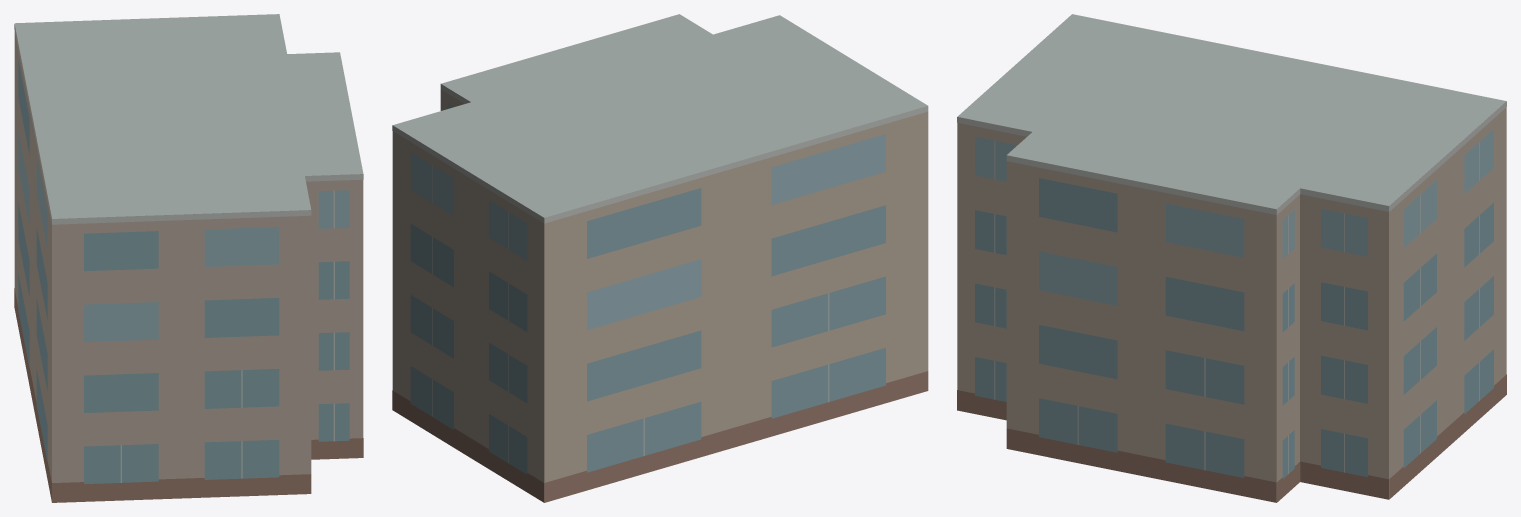
File: residential-2e50ac70-b3a1-436a-a1ed-4536ffee2207.glb
3 views of the same model, side by side, from view 1: azimuth 30°, elevation 25°; view 2: azimuth 150°, elevation 25°; view 3: azimuth 270°, elevation 25° (orthographic). The views are drawn at different scales.
Visible parts, largest first — view 1: residential-2e50ac70-b3a1-436a-a1ed-4536ffee2207.tmp; view 2: residential-2e50ac70-b3a1-436a-a1ed-4536ffee2207.tmp; view 3: residential-2e50ac70-b3a1-436a-a1ed-4536ffee2207.tmp.
Boxes of the visible parts, box(x1,y1,x2,y2) form: residential-2e50ac70-b3a1-436a-a1ed-4536ffee2207.tmp: box(14, 14, 363, 502); residential-2e50ac70-b3a1-436a-a1ed-4536ffee2207.tmp: box(392, 14, 928, 502); residential-2e50ac70-b3a1-436a-a1ed-4536ffee2207.tmp: box(957, 14, 1506, 502).
Bounding box in the file's own units: 17.41 × 12.2 × 20.71.
